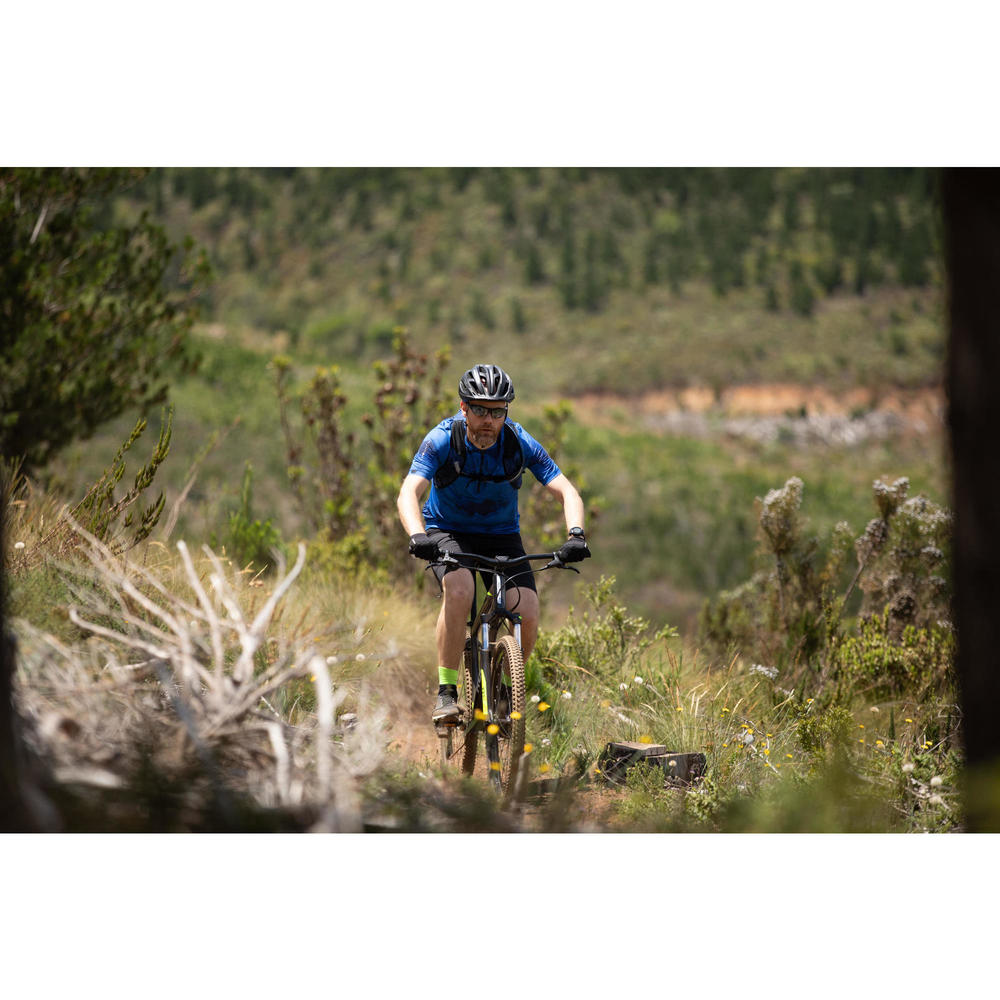MountainBike: (388, 533, 606, 801)
